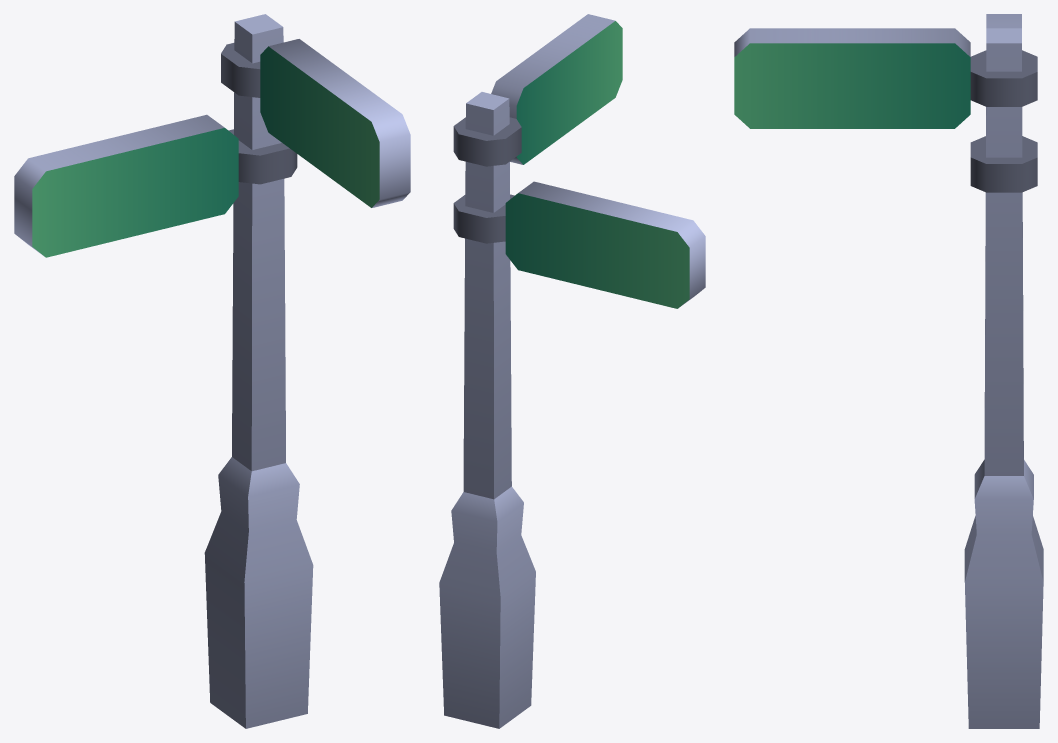
File: road-sign-street.glb
The picture shows the model from 3 angles, left to right: view 1: azimuth 30°, elevation 25°; view 2: azimuth 150°, elevation 25°; view 3: azimuth 270°, elevation 25°; orthographic projection. The views are drawn at different scales.
Visible parts, largest first — view 1: road-sign-street; view 2: road-sign-street; view 3: road-sign-street.
Part boxes in pixels (bbox=[...]): road-sign-street: bbox=[14, 14, 410, 728]; road-sign-street: bbox=[439, 14, 705, 728]; road-sign-street: bbox=[734, 14, 1043, 728].
Size of the model in its own units: 0.1963 by 0.475 by 0.1962.
Materials: 1 (1 with a texture image).
